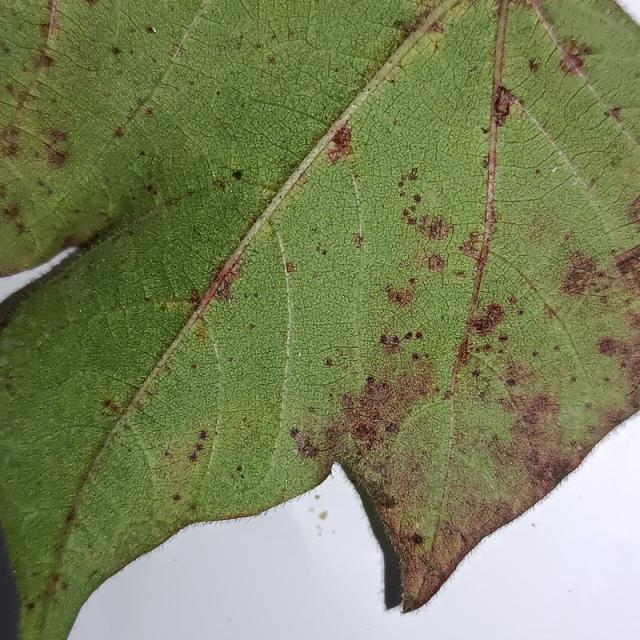Bacterial_Blight: (452, 290, 531, 383), (38, 498, 88, 607), (346, 374, 416, 446), (590, 322, 640, 405), (382, 356, 438, 406), (509, 389, 560, 431), (113, 94, 160, 139), (559, 254, 605, 299), (402, 207, 454, 246), (209, 251, 250, 299), (397, 4, 446, 39), (327, 119, 363, 166), (489, 84, 521, 126), (595, 333, 637, 364), (379, 326, 423, 355), (470, 302, 507, 335), (289, 426, 321, 460), (307, 495, 332, 537), (184, 429, 211, 463), (613, 248, 640, 281), (0, 126, 25, 160), (385, 285, 415, 308), (259, 179, 289, 202), (459, 236, 485, 261), (397, 168, 421, 193), (184, 287, 207, 312), (353, 421, 378, 444), (560, 51, 586, 73), (102, 398, 127, 418), (46, 148, 69, 168), (191, 321, 211, 344), (456, 338, 473, 364), (426, 252, 447, 273), (375, 493, 400, 509), (401, 207, 421, 226), (36, 52, 56, 69), (3, 203, 21, 220), (261, 220, 277, 238), (212, 175, 228, 192), (61, 235, 80, 249), (607, 106, 623, 122), (315, 241, 330, 258), (170, 44, 183, 59), (352, 234, 365, 249), (528, 58, 541, 72), (145, 182, 158, 195), (113, 126, 127, 138), (284, 261, 296, 273), (411, 533, 423, 545), (232, 169, 243, 181), (409, 167, 419, 180), (290, 428, 301, 439), (66, 510, 75, 522), (146, 26, 158, 35), (144, 106, 154, 116), (198, 430, 208, 440), (402, 208, 412, 218), (111, 46, 122, 55), (403, 331, 414, 340), (471, 369, 481, 378), (267, 55, 276, 64), (324, 357, 333, 366), (414, 331, 423, 340), (366, 376, 375, 385), (480, 126, 490, 134), (508, 296, 517, 304), (172, 494, 181, 502), (26, 603, 35, 611), (164, 451, 172, 459), (248, 323, 256, 331), (534, 168, 542, 176), (408, 277, 416, 285), (235, 465, 243, 472), (569, 376, 577, 383), (190, 363, 197, 370), (604, 377, 611, 383)
Cotton: (0, 0, 639, 639)
